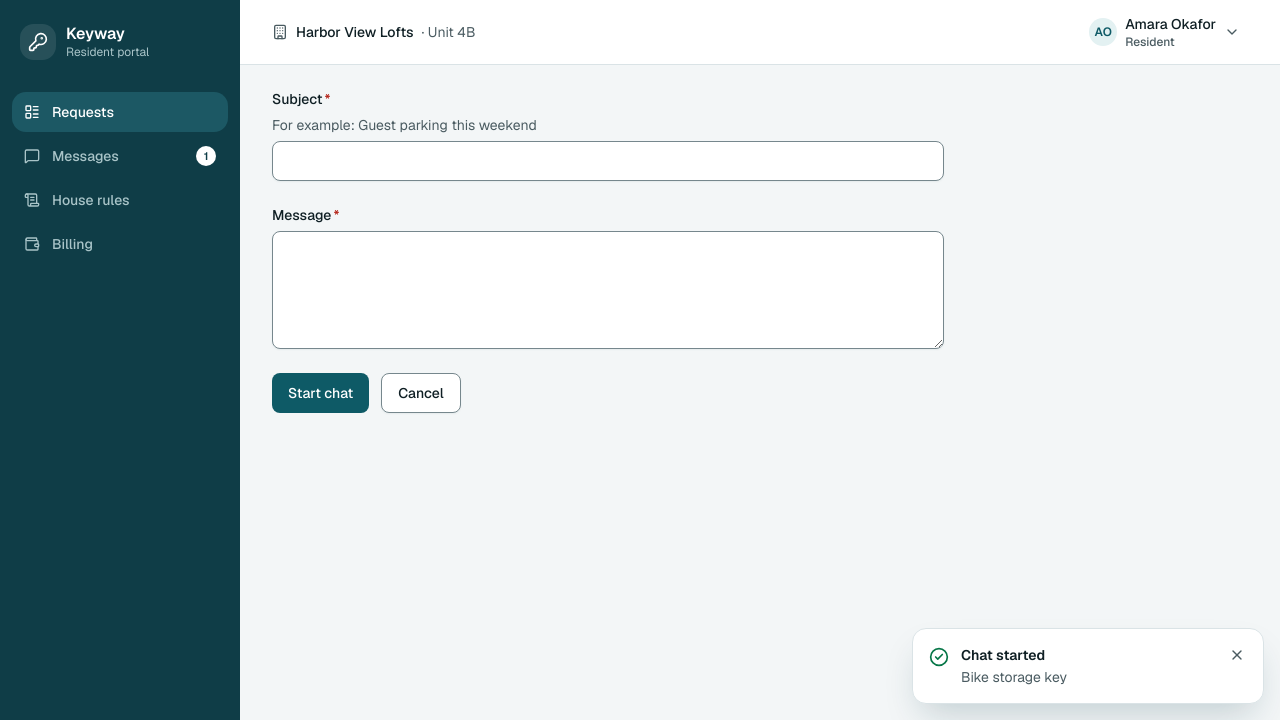
NewChatForm › explains a server failure
Step 1. Type "Bike storage key" into the field labelled "Subject*" → coordinates (608, 161), box [272,141,944,181]
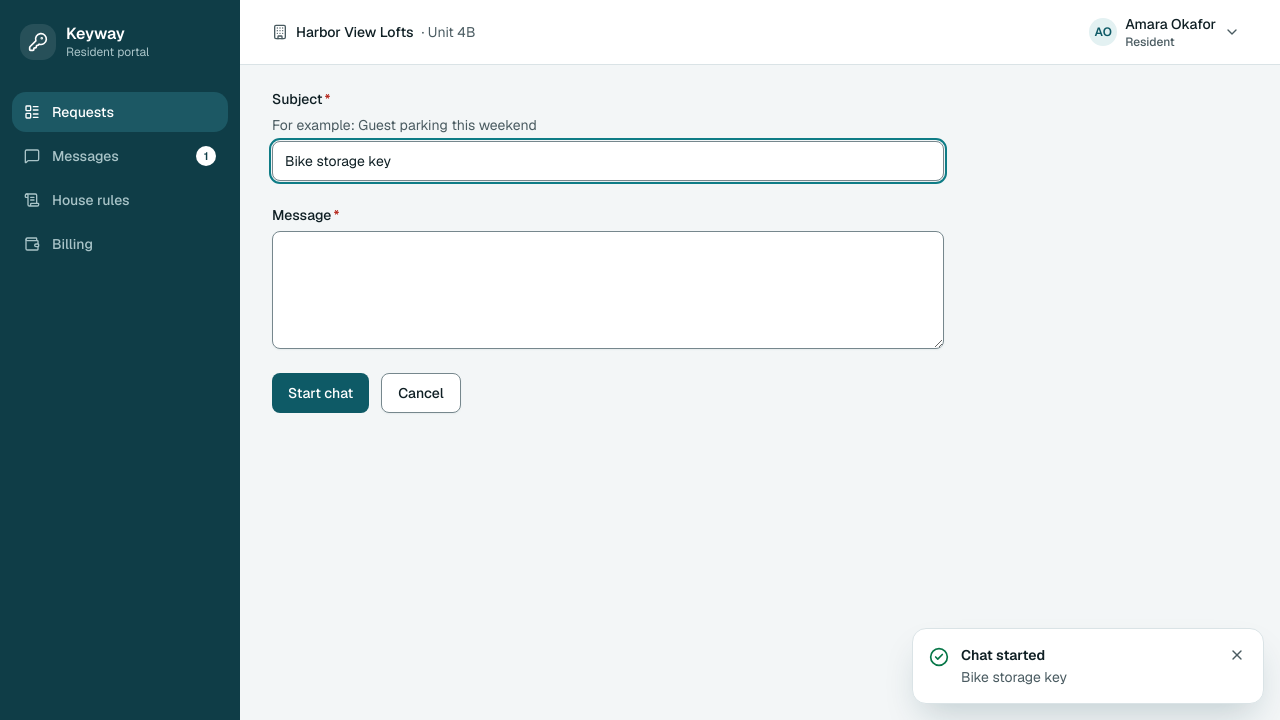
Step 2. Type "Where is the key?" into the text box labelled "Message*" → coordinates (608, 290), box [272,231,944,349]
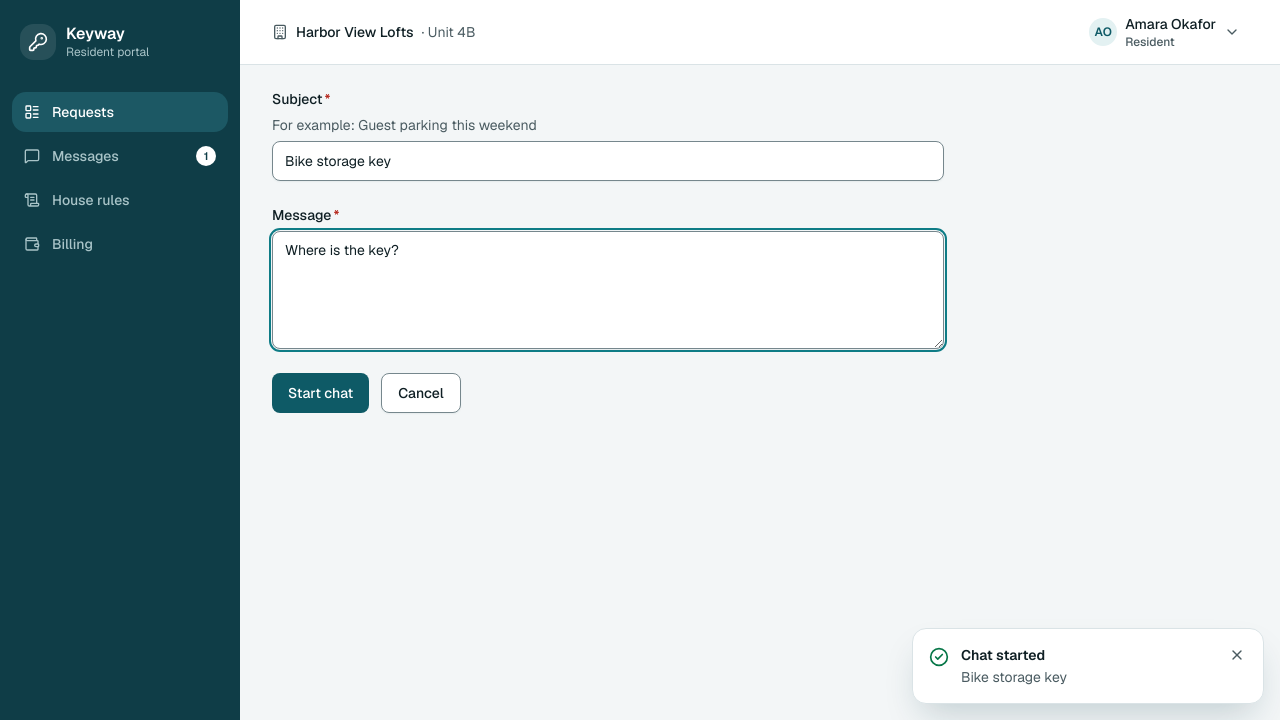
Step 3. Click the button "Start chat" → coordinates (321, 393), box [272,373,369,413]
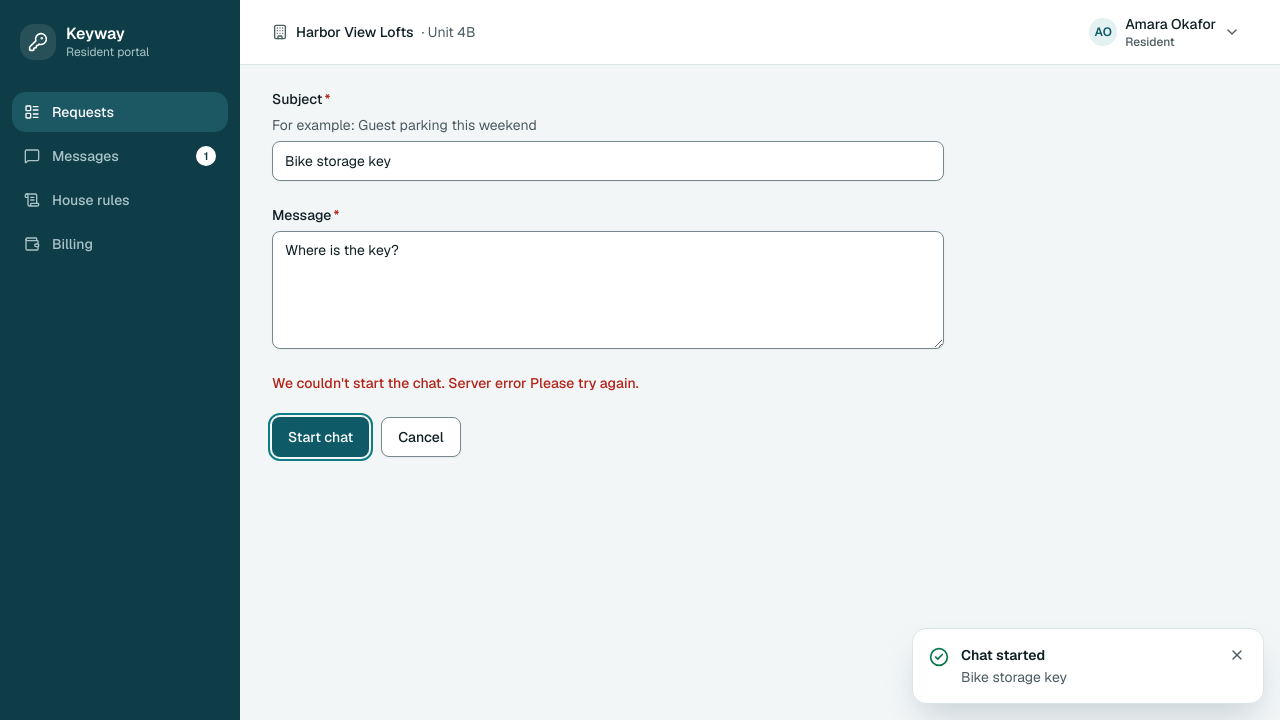
Now the message shows "We couldn't start the chat.", box [272,374,448,392]
